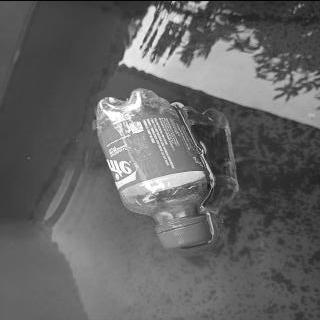bottle: (92, 87, 213, 249)
